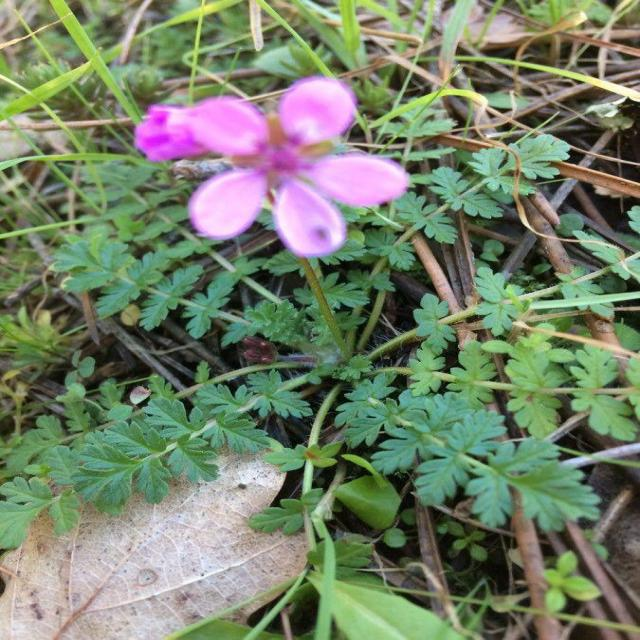organic waste: (146, 79, 398, 257)
